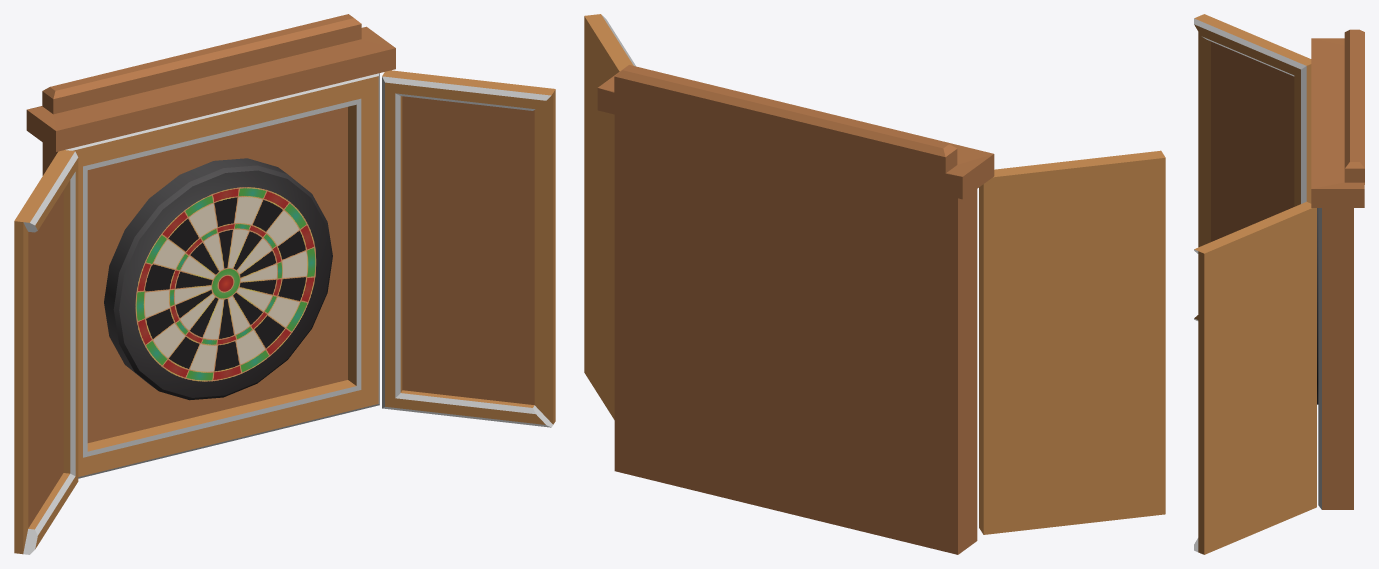
File: DartWood.fbx
The picture shows the model from 3 angles, left to right: view 1: azimuth 30°, elevation 25°; view 2: azimuth 150°, elevation 25°; view 3: azimuth 270°, elevation 25°; orthographic projection. The views are drawn at different scales.
Parts seen in each view (by area): view 1: pCube2, pCube1, DartCircle; view 2: pCube1, pCube2; view 3: pCube2, pCube1, DartCircle.
Boxes of the visible parts, x1,y1,x2,y2 form: pCube2: [14, 70, 555, 554]; pCube1: [26, 14, 395, 478]; DartCircle: [104, 158, 332, 400]; pCube1: [597, 65, 994, 554]; pCube2: [584, 14, 1165, 534]; pCube2: [1194, 14, 1316, 554]; pCube1: [1311, 29, 1364, 509]; DartCircle: [1317, 208, 1318, 404].
Bounding box in the file's own units: 37.79 × 25.23 × 11.39.
2 materials, 1 textured.
